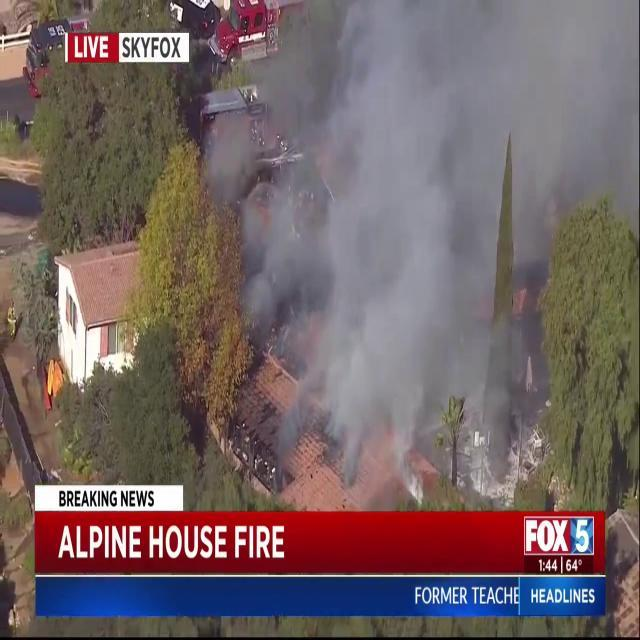Smoke: (220, 1, 606, 507)
